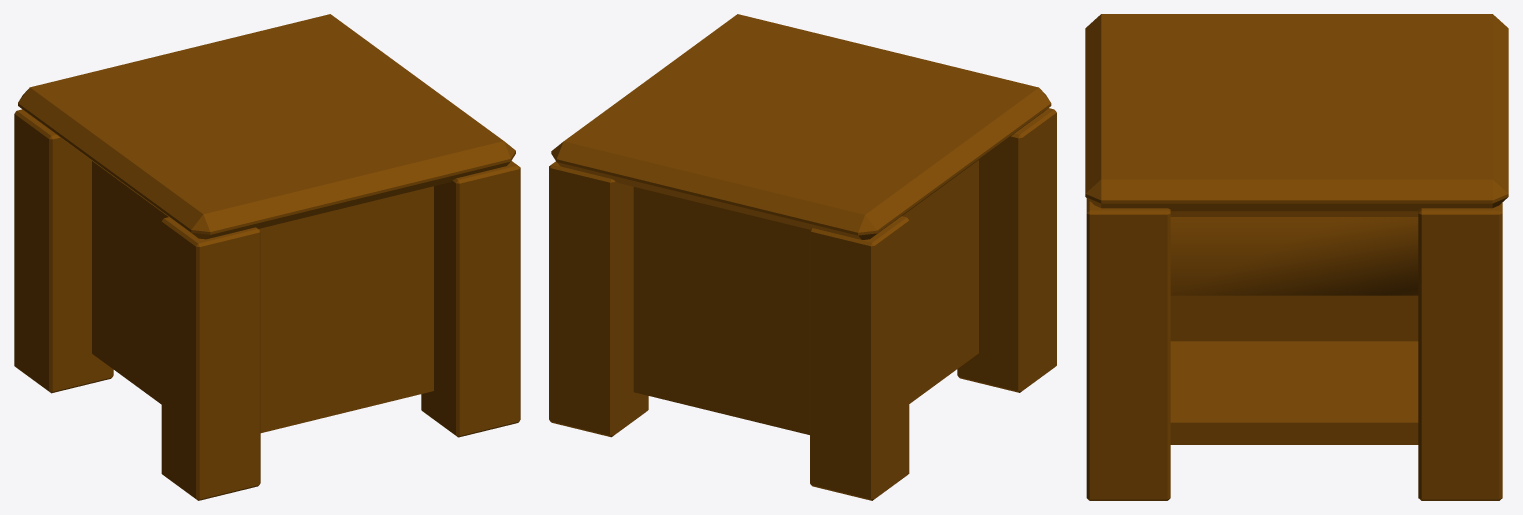
Rendered from Shelf1.fbx.
3 renders of one model, left to right at view 1: azimuth 30°, elevation 25°; view 2: azimuth 150°, elevation 25°; view 3: azimuth 270°, elevation 25°, orthographic. The views are drawn at different scales.
Parts seen in each view (by area): view 1: ShelfFront; view 2: ShelfFront; view 3: ShelfFront.
Part boxes in pixels (left/top/right/bottom): ShelfFront: left=14, top=14, right=520, bottom=500; ShelfFront: left=549, top=14, right=1056, bottom=500; ShelfFront: left=1085, top=14, right=1508, bottom=500.
Size of the model in its own units: 55.74 by 45.94 by 55.66.
